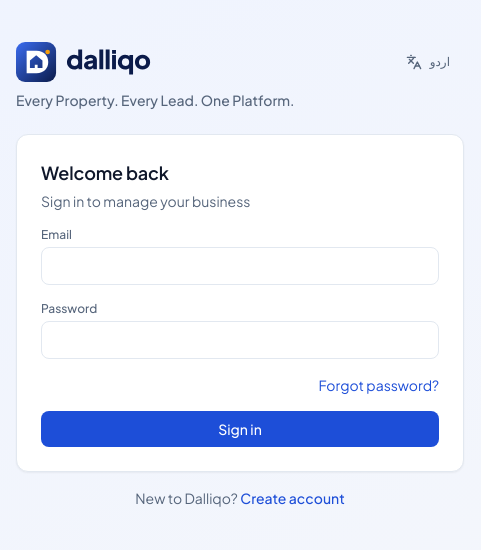
Test: login › shows a translated error for wrong credentials
This screenshot has width=481, height=550.
In the field labelled "Email": (240, 266) top-left (41, 247), bottom-right (439, 285), type "a@b.c"
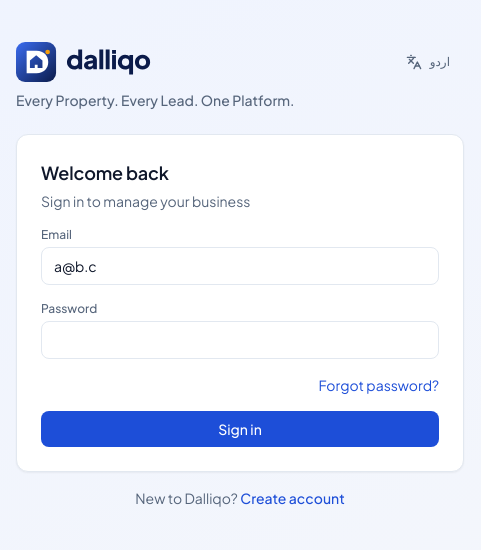
In the password field labelled "Password": (240, 340) top-left (41, 321), bottom-right (439, 359), type "x"
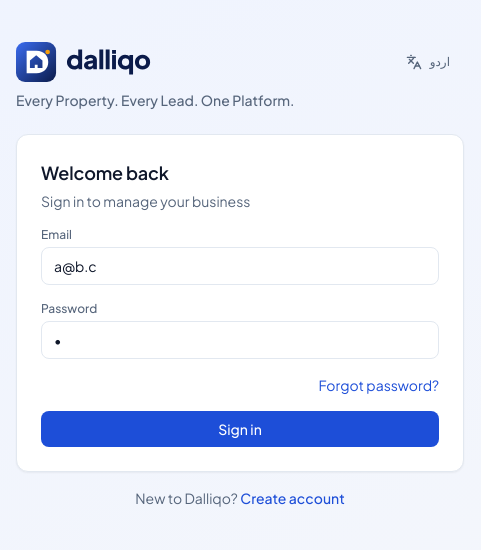
Click the button "Sign in": (240, 429) top-left (41, 411), bottom-right (439, 447)
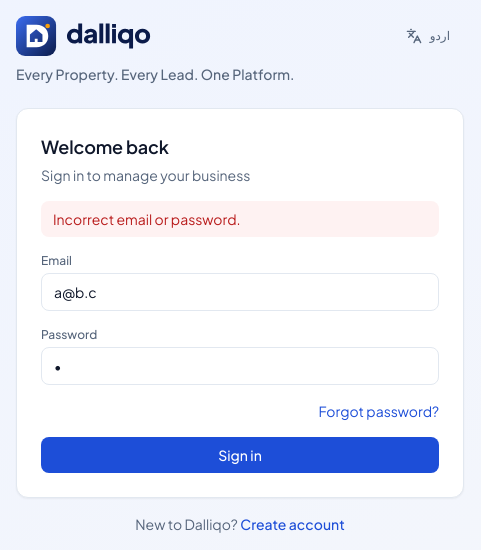
Expected: the message reads "Incorrect email or password.", top-left (53, 210), bottom-right (241, 228)
